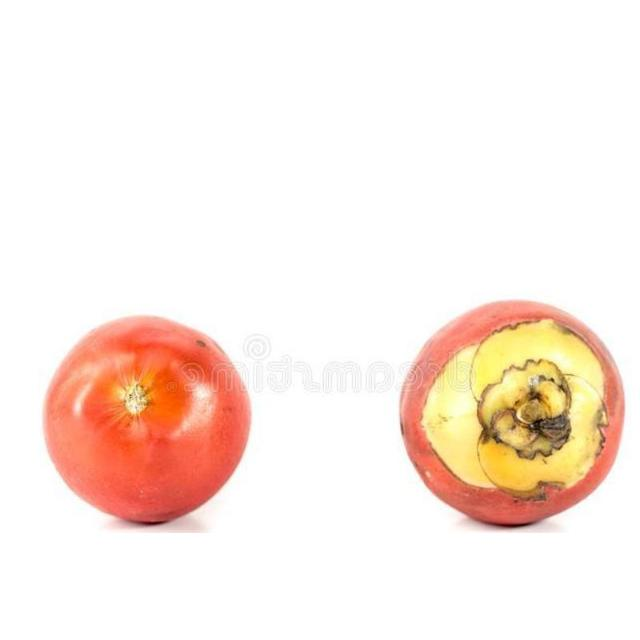good: (397, 301, 628, 529), (42, 316, 254, 527)
